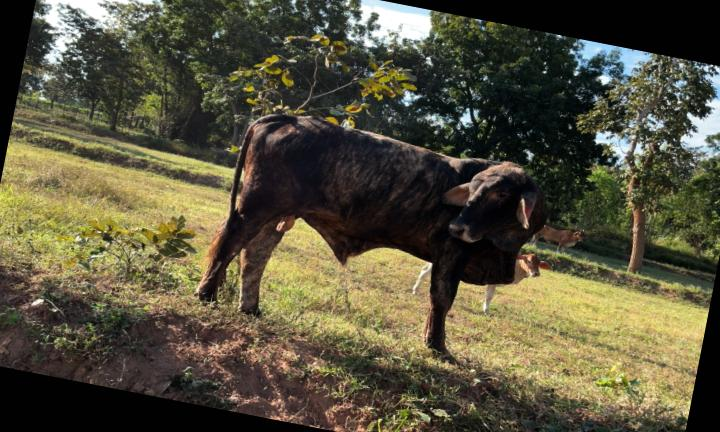Charolais: (198, 114, 546, 360)
